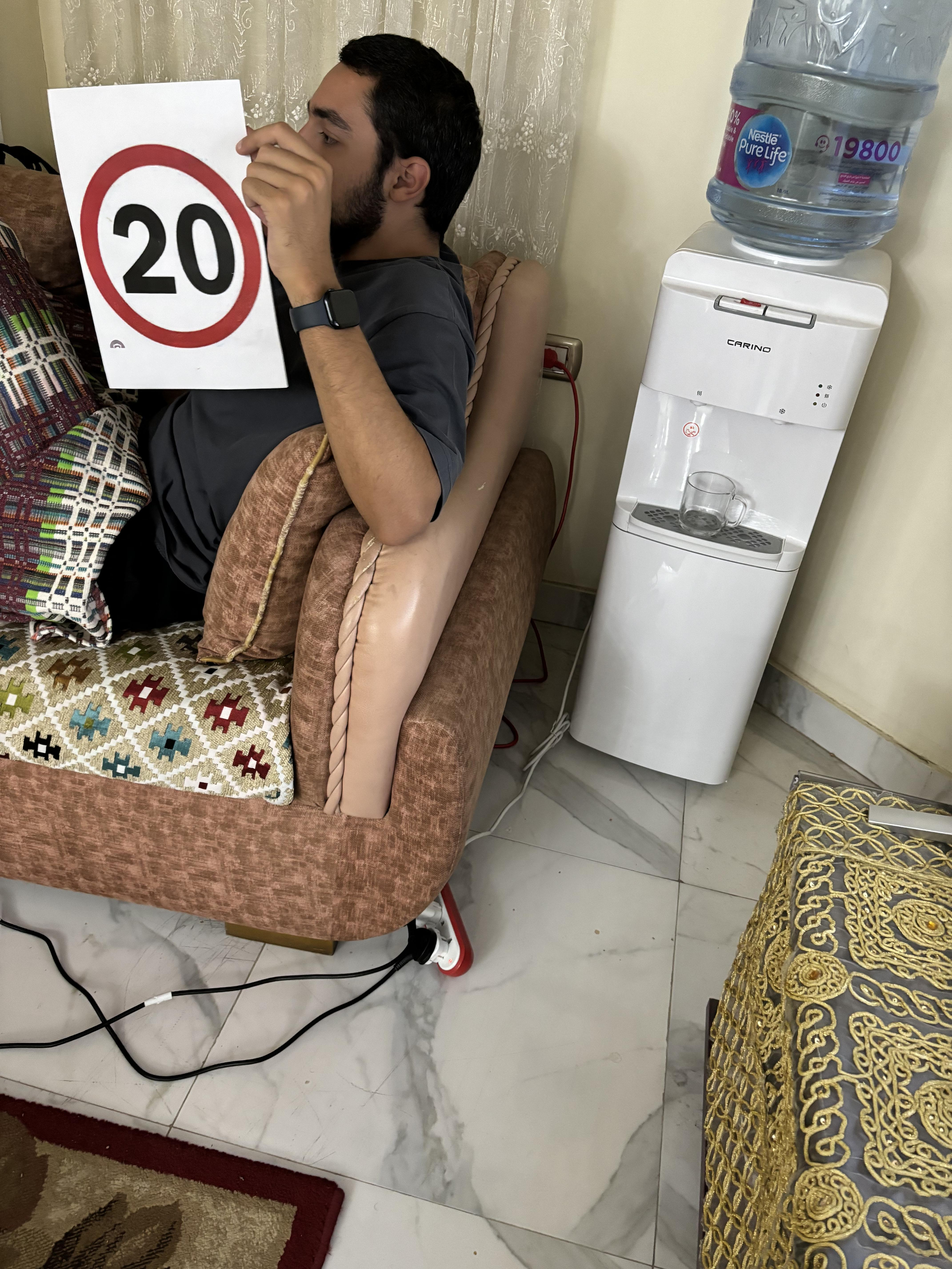20-Speed: (76, 145, 267, 330)
